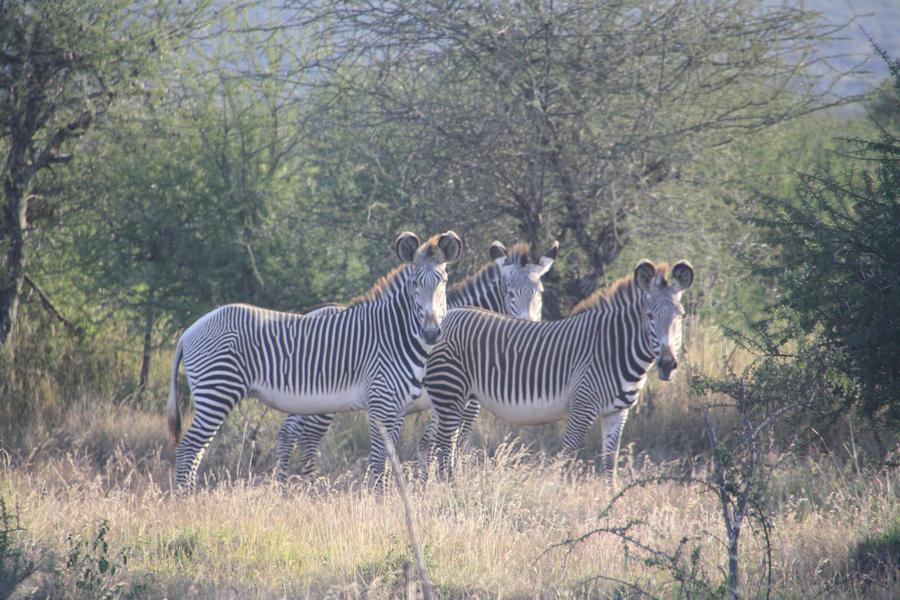zebra_grevys: (178, 303, 402, 402)
